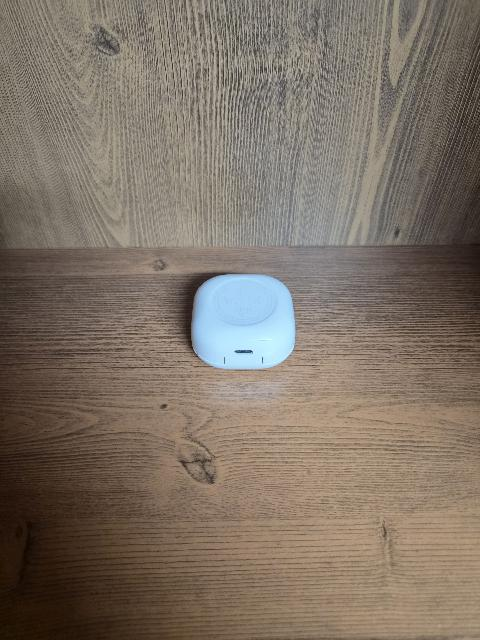earphone_case: (191, 274, 296, 370)
